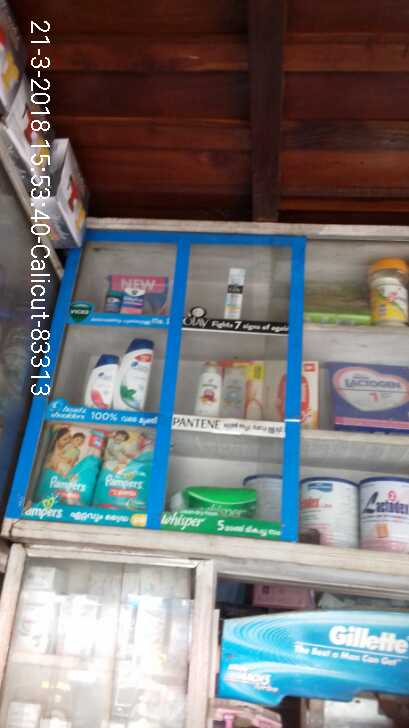vicks: (106, 282, 151, 317)
